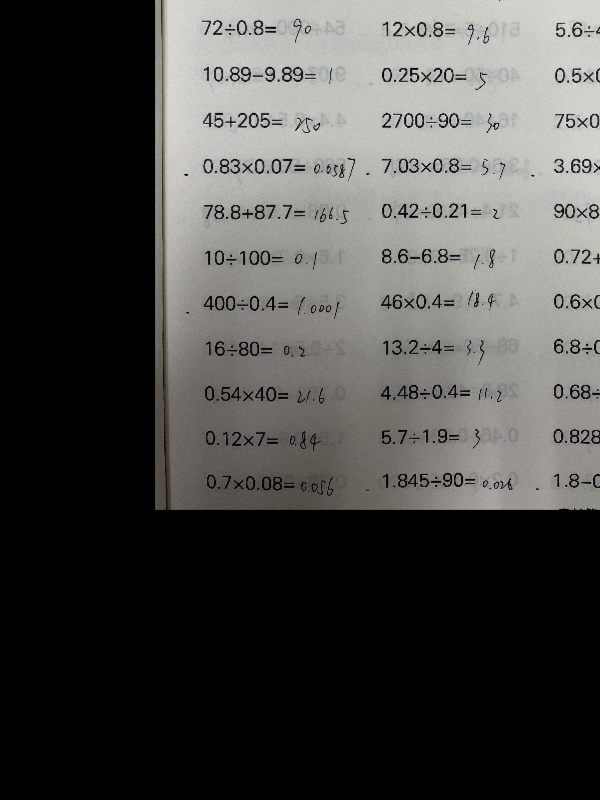equation: (198, 153, 372, 184), (200, 199, 351, 232), (202, 464, 337, 498), (201, 291, 340, 323), (377, 467, 516, 496), (377, 151, 508, 180), (378, 108, 504, 138), (199, 242, 325, 272), (197, 15, 313, 47), (377, 244, 504, 273), (362, 197, 503, 223), (375, 287, 501, 316), (375, 333, 501, 362), (379, 379, 505, 408), (197, 107, 323, 134), (199, 60, 335, 85), (377, 423, 490, 453), (201, 381, 326, 408), (202, 425, 327, 452), (378, 16, 493, 45), (376, 61, 489, 90), (202, 338, 316, 364), (545, 465, 600, 497), (549, 154, 600, 187), (542, 333, 600, 362), (542, 424, 600, 453), (550, 199, 600, 232), (546, 378, 600, 407), (550, 109, 600, 140), (548, 289, 600, 318), (548, 244, 600, 273), (550, 18, 600, 45), (549, 62, 600, 86)
